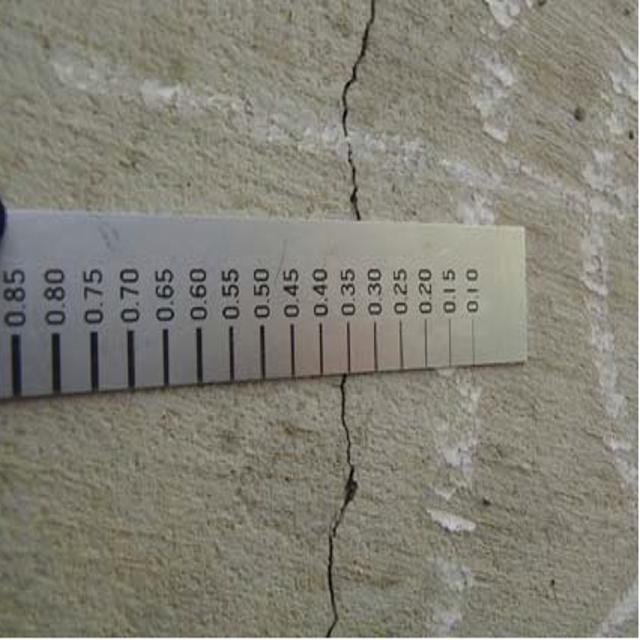crack: (309, 381, 364, 640), (336, 4, 387, 223)
